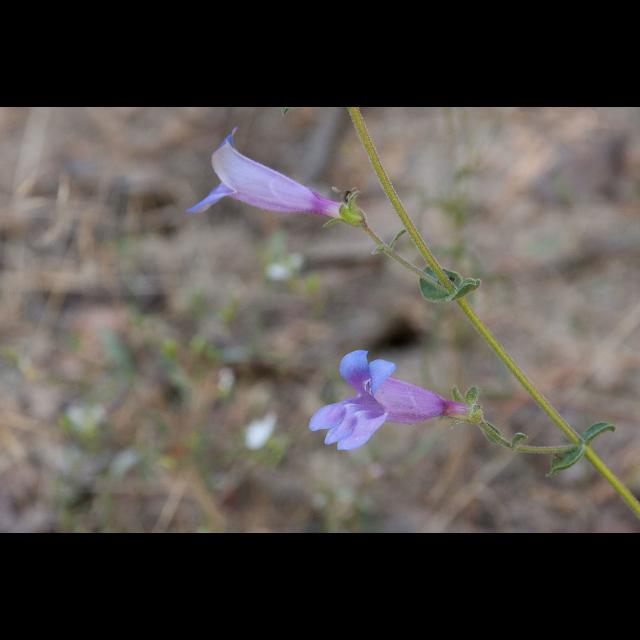Flower: (329, 343, 517, 455), (190, 126, 362, 222)
